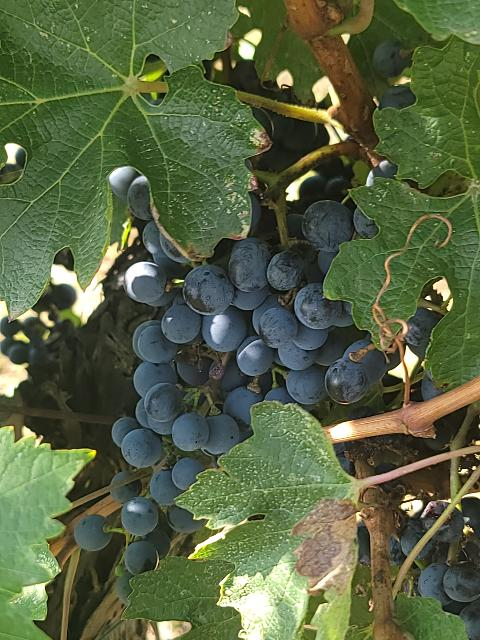grapes: (75, 221, 325, 604), (111, 239, 390, 469), (111, 458, 204, 600)
